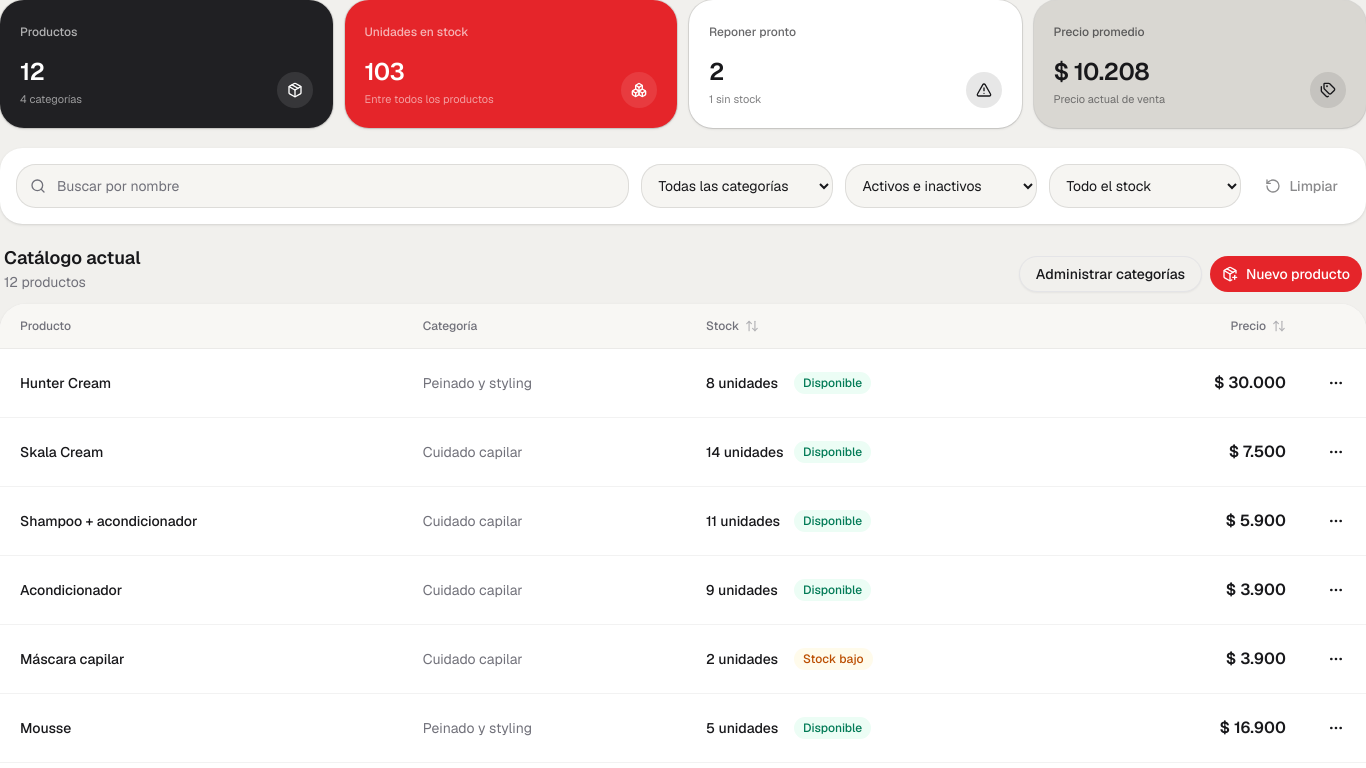
Scenario: combines filters and clears an empty result
The width and height of the screenshot is (1366, 768).
Select "Fragancias" in the dropdown named "Categoría" at (737, 186), box 641,164 -> 833,208
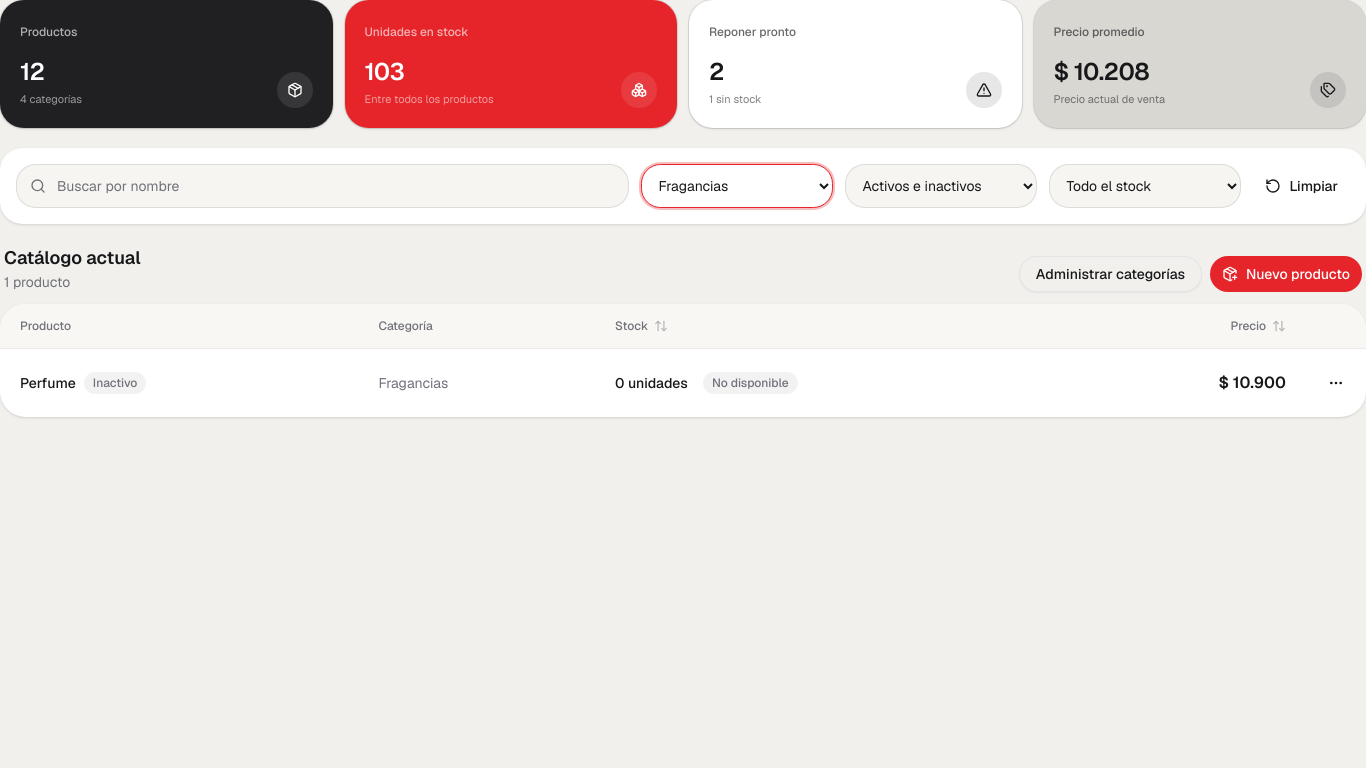
Select "Disponible" in the dropdown named "Estado de stock" at (1145, 186), box 1049,164 -> 1241,208
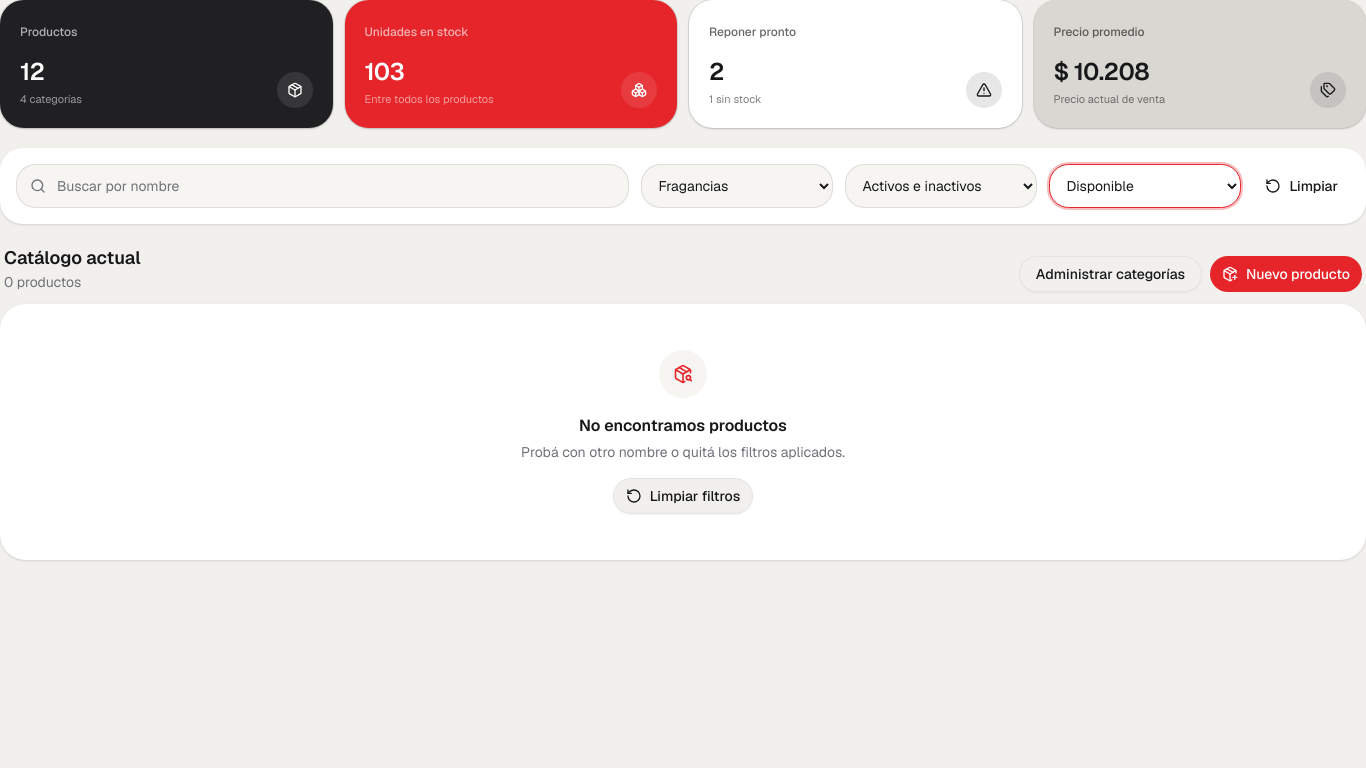
Now the heading "No encontramos productos" is shown, box 579,414 -> 787,438
Click the button "Limpiar filtros" at (683, 496), box 613,478 -> 753,514
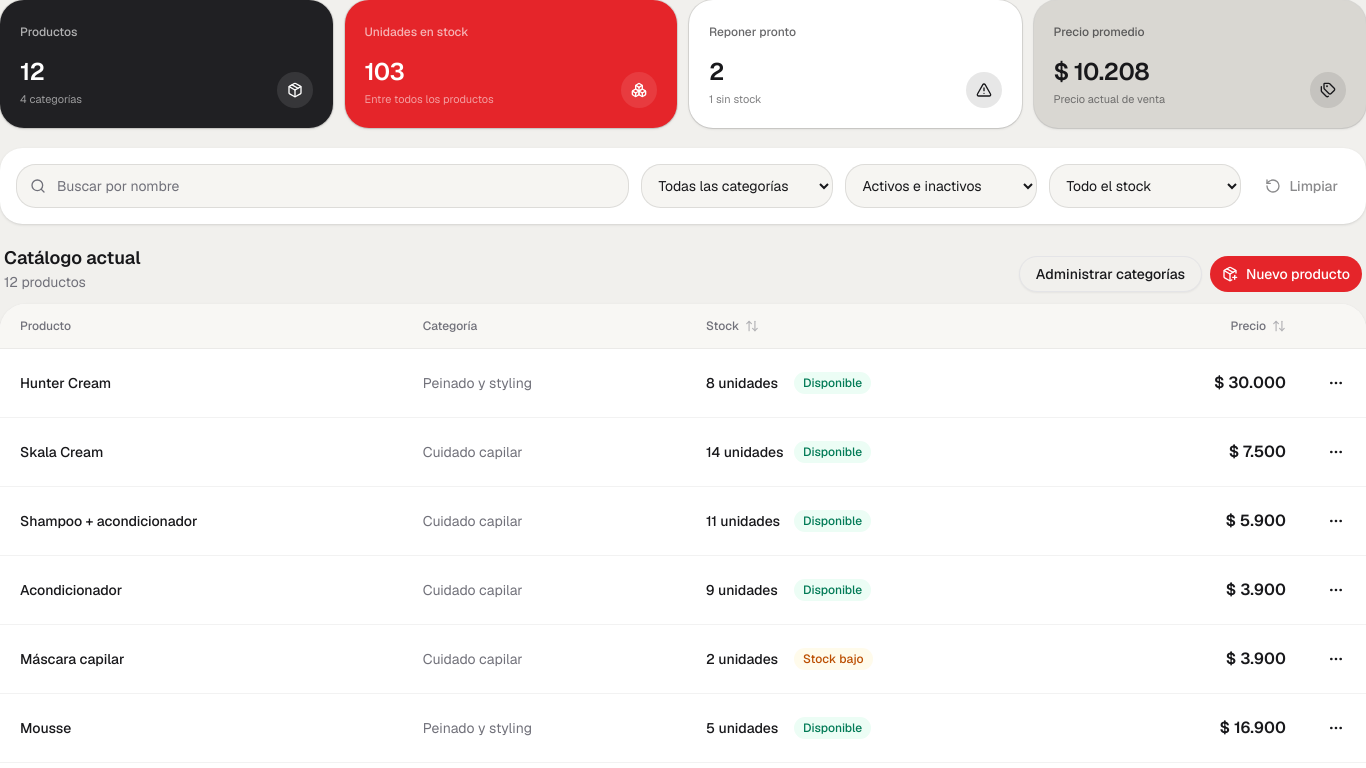
Now the text "Hunter Cream" is shown 2 times
